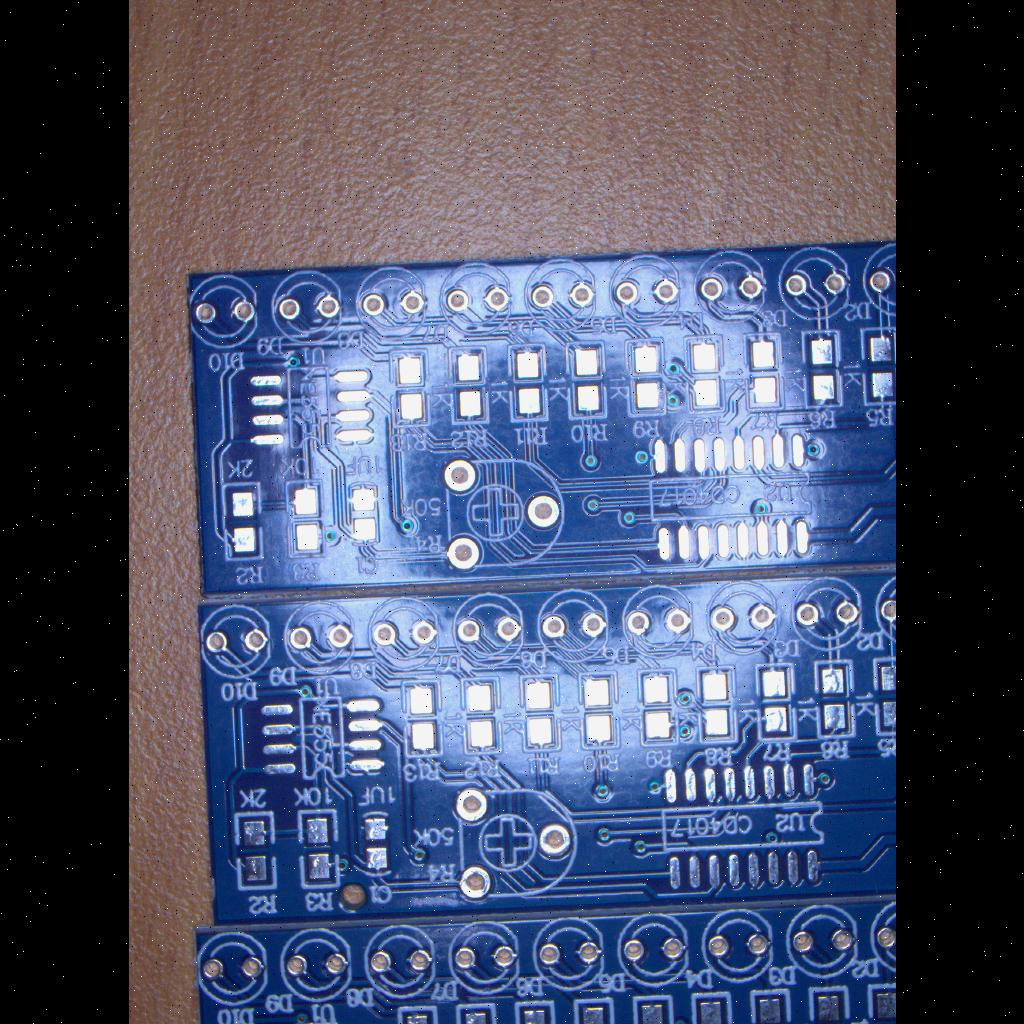NG: (640, 426, 818, 572), (654, 757, 832, 895), (255, 690, 389, 782), (242, 362, 380, 450), (394, 676, 448, 762), (798, 321, 844, 419), (681, 328, 727, 420), (562, 332, 608, 424), (220, 474, 266, 566), (516, 668, 562, 760), (231, 807, 279, 895), (622, 332, 668, 422), (504, 337, 550, 427), (752, 657, 798, 747), (447, 339, 491, 431), (812, 656, 858, 744), (578, 668, 622, 758), (294, 806, 340, 892), (695, 661, 739, 747), (460, 672, 504, 758), (858, 319, 896, 417), (636, 666, 680, 750), (387, 344, 429, 430), (745, 326, 785, 416), (284, 474, 324, 564), (343, 474, 385, 552), (357, 805, 393, 879), (870, 644, 896, 746)
